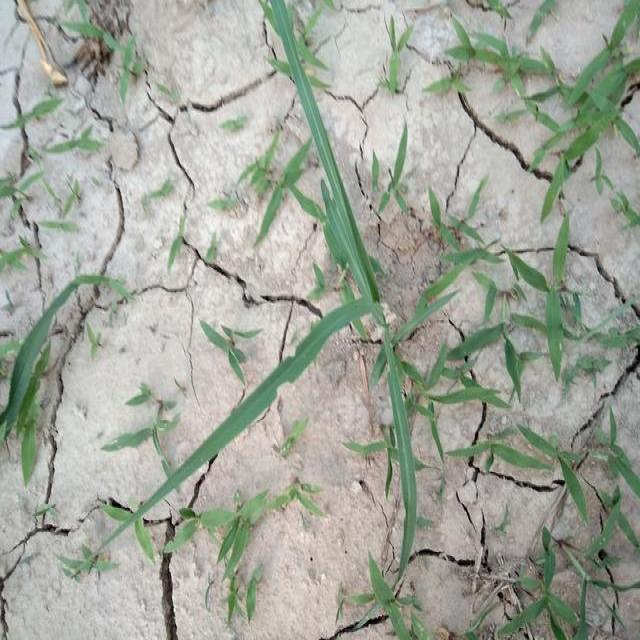weed: (294, 80, 574, 540), (274, 1, 392, 347), (433, 46, 640, 183), (446, 214, 580, 388), (430, 374, 583, 511), (1, 251, 78, 472), (200, 497, 282, 590), (514, 544, 584, 636), (118, 384, 170, 474), (366, 568, 411, 640), (214, 326, 258, 397), (0, 90, 67, 134)
